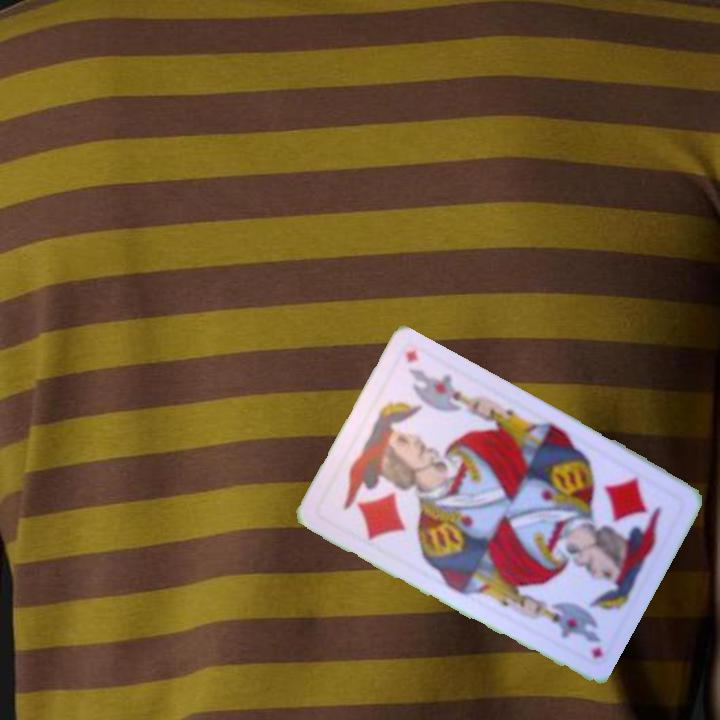d_j.png: (566, 458, 687, 585), (314, 427, 435, 554)
